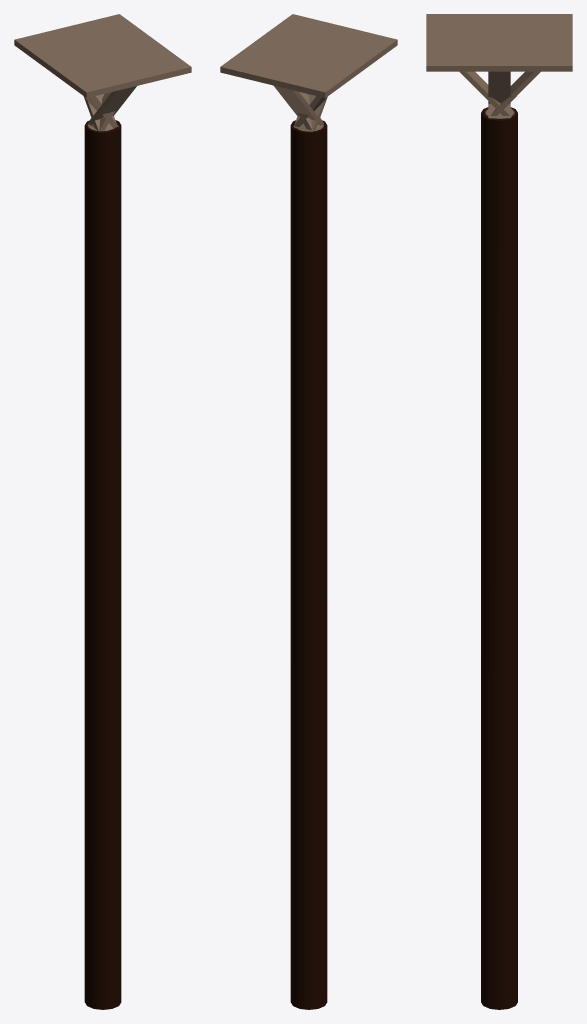
The model's file is plattform_wood.FBX.
The picture shows the model from 3 angles, left to right: view 1: azimuth 30°, elevation 25°; view 2: azimuth 150°, elevation 25°; view 3: azimuth 270°, elevation 25°; orthographic projection.
Visible parts, largest first — view 1: plattform_wood; view 2: plattform_wood; view 3: plattform_wood.
Boxes of the visible parts, <box> form: plattform_wood: <box>14,14,191,1009</box>; plattform_wood: <box>220,14,397,1009</box>; plattform_wood: <box>426,14,572,1009</box>.
Size of the model in its own units: 143 by 1231 by 170.
